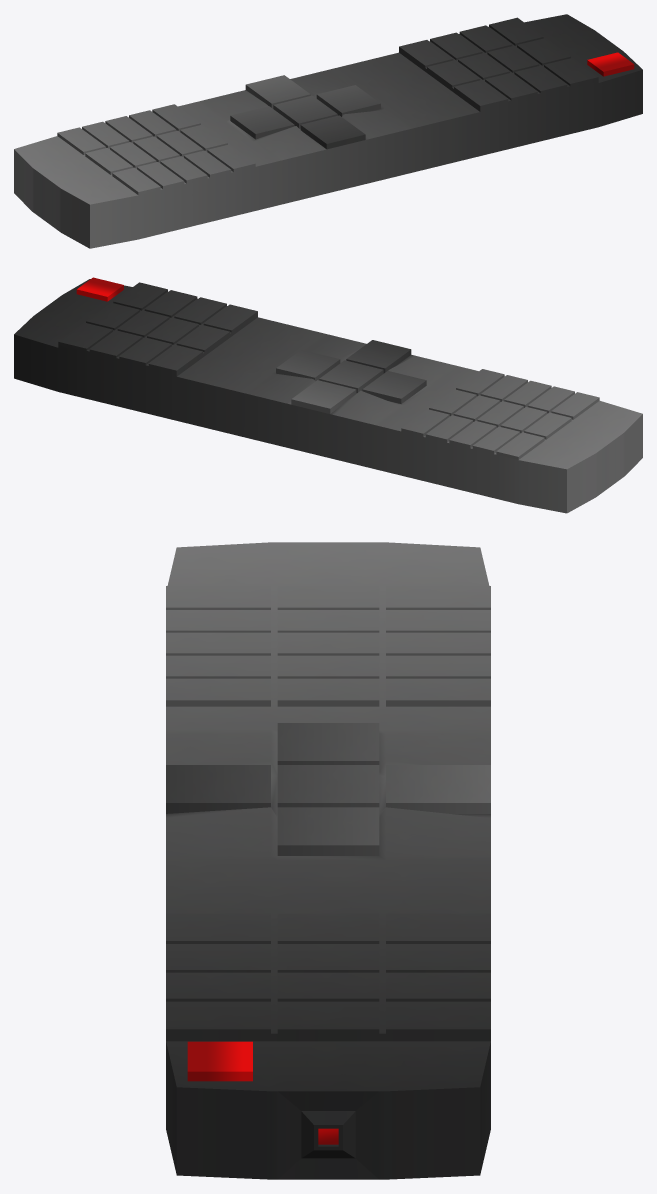
The model's file is SM_remotecontrol.fbx.
3 renders of one model, top to bottom at view 1: azimuth 30°, elevation 25°; view 2: azimuth 150°, elevation 25°; view 3: azimuth 270°, elevation 25°, orthographic. The views are drawn at different scales.
Visible parts, largest first — view 1: remotecontroll; view 2: remotecontroll; view 3: remotecontroll.
Part boxes in pixels (box(x1,y1,x2,y2)): remotecontroll: box(14, 14, 642, 248); remotecontroll: box(14, 277, 642, 513); remotecontroll: box(166, 542, 490, 1179).
Size of the model in its own units: 201 by 17.05 by 50.
